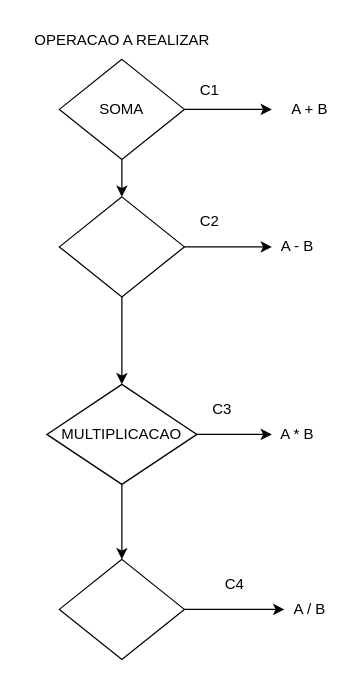
This 361x681 diagram has some shape labels left out. The box of each missing label's shape, as (x1, y1, x2, y2) in pixels:
DIVISAO: (58, 558, 184, 659)
SUBTRACAO: (58, 196, 184, 297)
